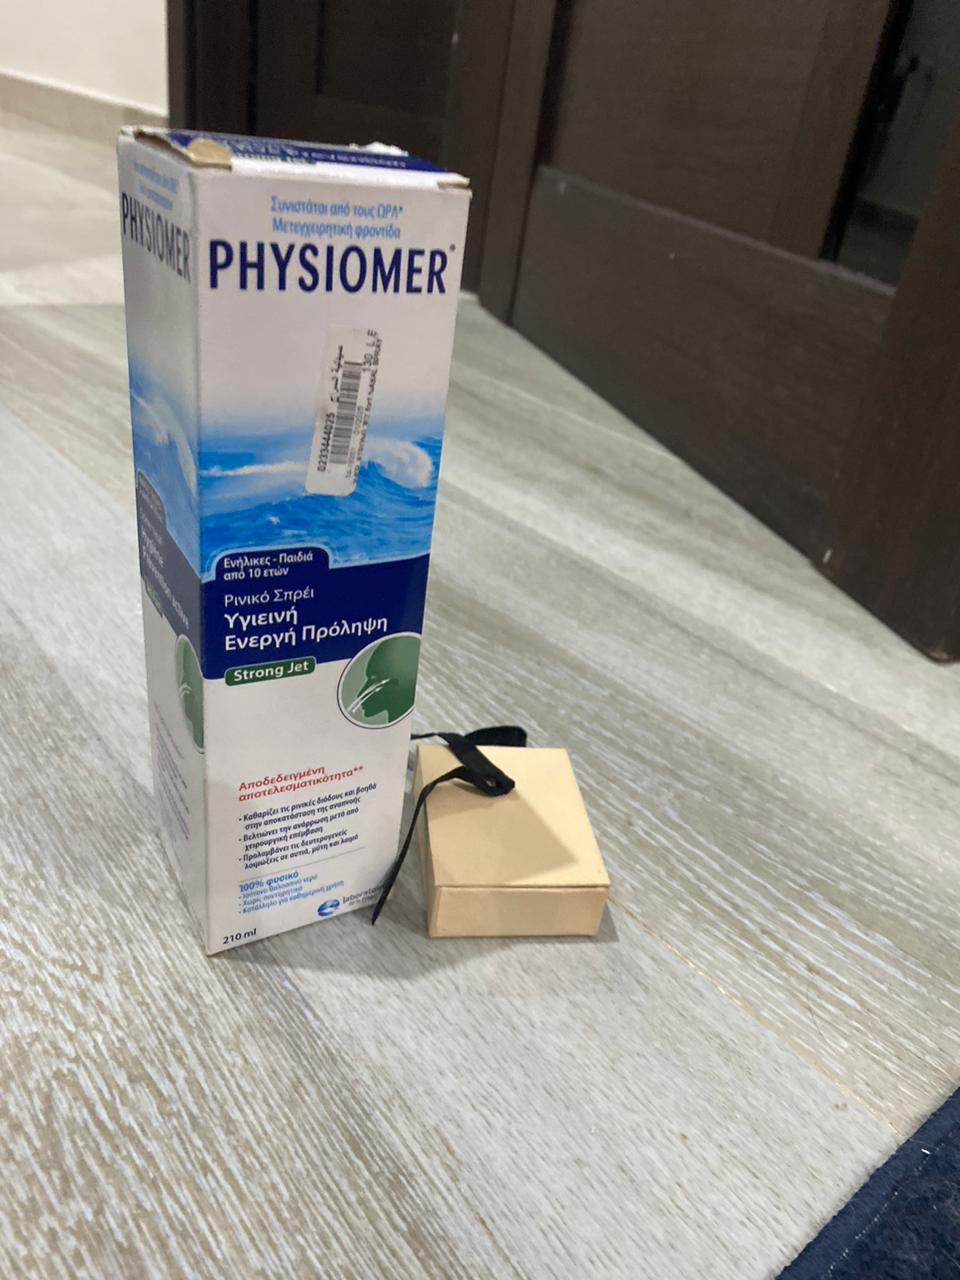Physiomer: (113, 111, 467, 957)
Yellow Box: (416, 737, 616, 952)
